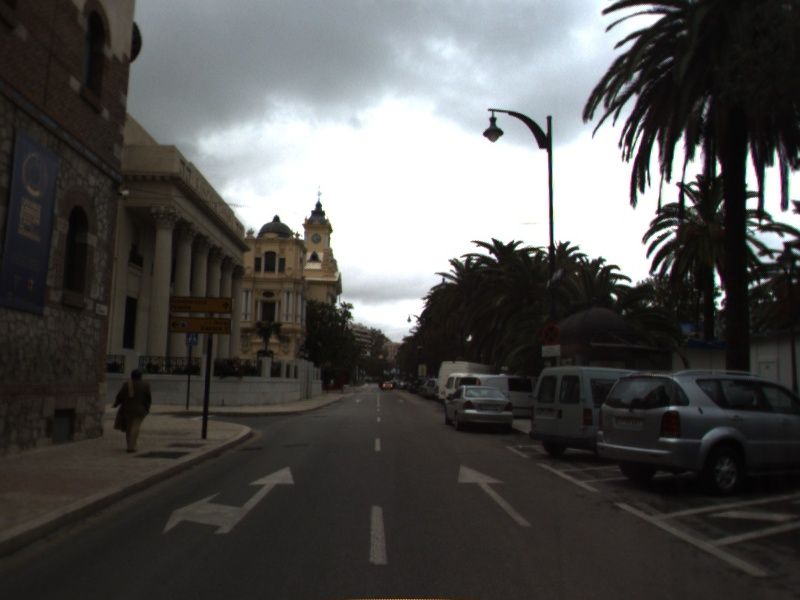STRAIGHT: (455, 462, 535, 530)
STRAIGHT_LEFT: (160, 464, 297, 537)
